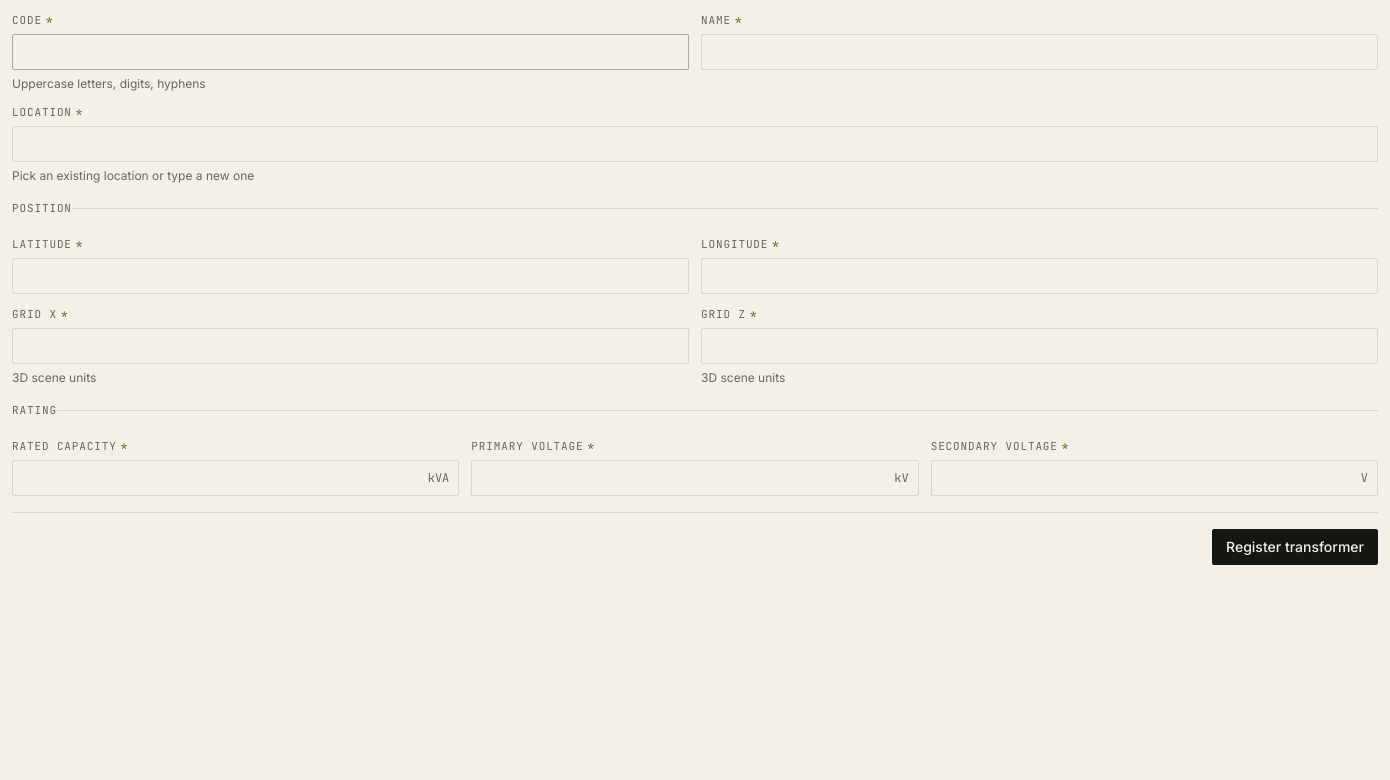
Test: TransformerForm › shows Zod validation errors and does not submit
Click the button "Register transformer" at (1295,547), box x1=1212 y1=529 x2=1378 y2=565
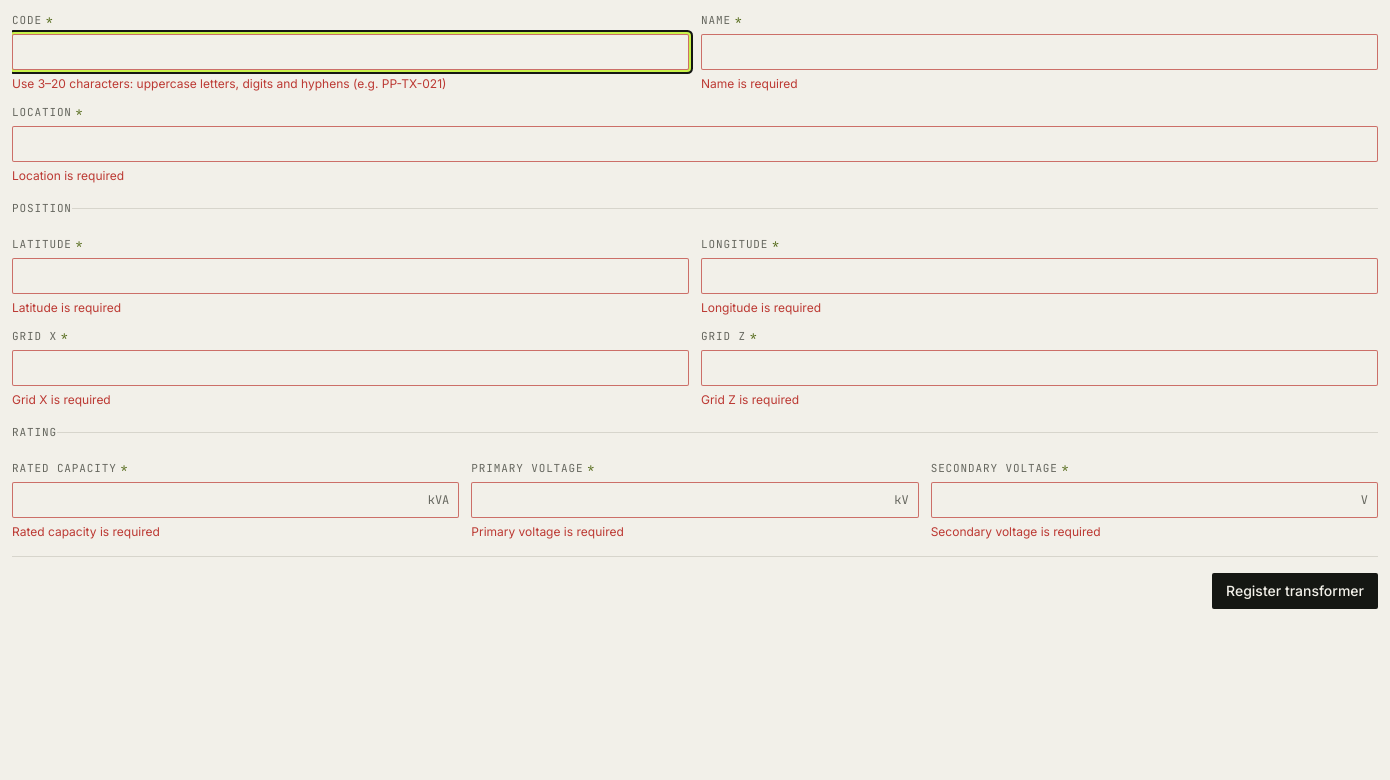
Expected: the text "Use 3–20 characters: uppercase letters, digits and hyphens (e.g. PP-TX-021)" is shown, x1=12 y1=76 x2=446 y2=91
Expected: the text "Name is required" is shown, x1=701 y1=76 x2=798 y2=91
Expected: the text "Location is required" is shown, x1=12 y1=168 x2=124 y2=183
